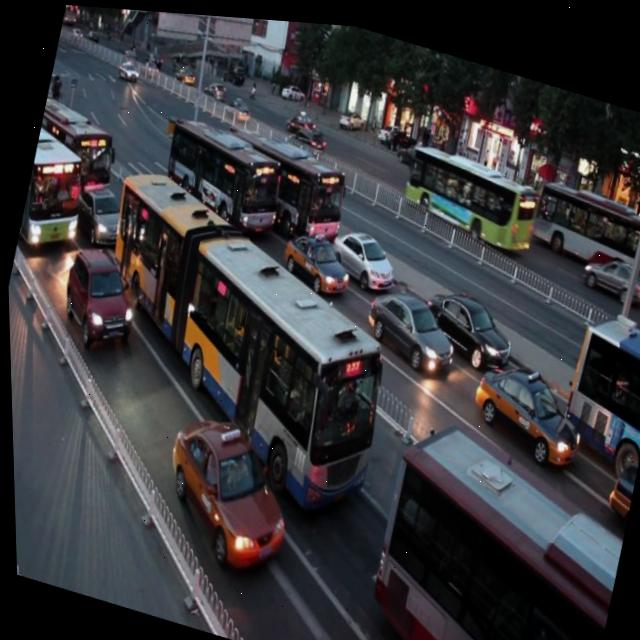car: (148, 395, 303, 572), (461, 336, 592, 464), (50, 236, 146, 357), (355, 264, 461, 369), (417, 265, 520, 362), (273, 209, 356, 292), (321, 204, 401, 288), (67, 178, 132, 253), (595, 437, 639, 523)
van: (60, 146, 420, 518), (346, 404, 636, 640), (151, 96, 293, 242), (214, 106, 357, 244), (551, 297, 640, 461), (13, 114, 98, 257), (25, 84, 124, 203)
